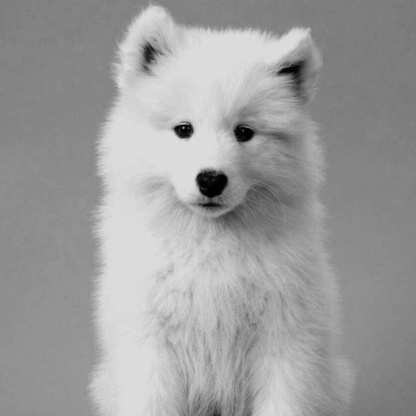samoyed: (81, 1, 364, 416)
